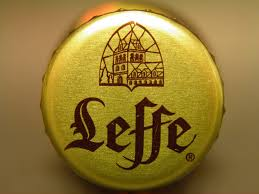leffe: (36, 7, 228, 194)
